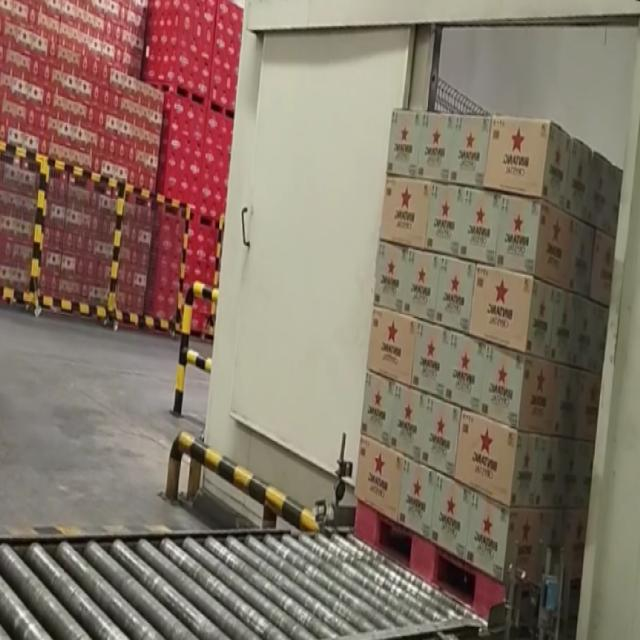pallet: (346, 71, 626, 628)
